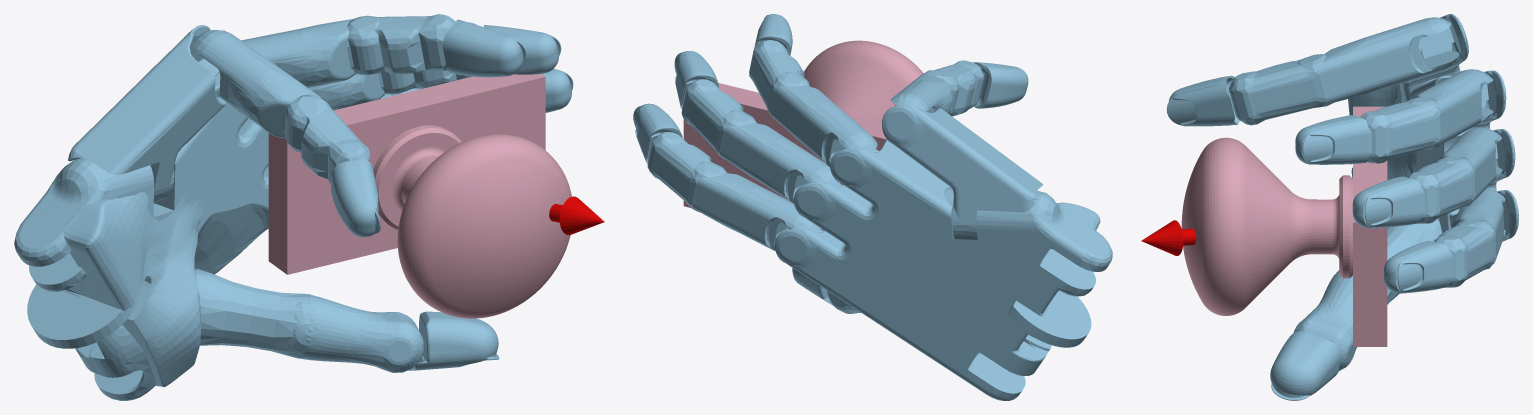
The picture shows the model from 3 angles, left to right: view 1: azimuth 30°, elevation 25°; view 2: azimuth 150°, elevation 25°; view 3: azimuth 270°, elevation 25°; orthographic projection. The views are drawn at different scales.
Visible parts, largest first — view 1: world, door_knob.stl; view 2: world, door_knob.stl; view 3: world, door_knob.stl.
Boxes of the visible parts, <box> form: world: <box>14,14,604,400</box>; door_knob.stl: <box>268,74,571,318</box>; world: <box>633,14,1112,400</box>; door_knob.stl: <box>683,40,923,230</box>; world: <box>1141,14,1518,400</box>; door_knob.stl: <box>1181,106,1387,346</box>.
Bounding box in the file's own units: 0.2143 × 0.1224 × 0.1378.
